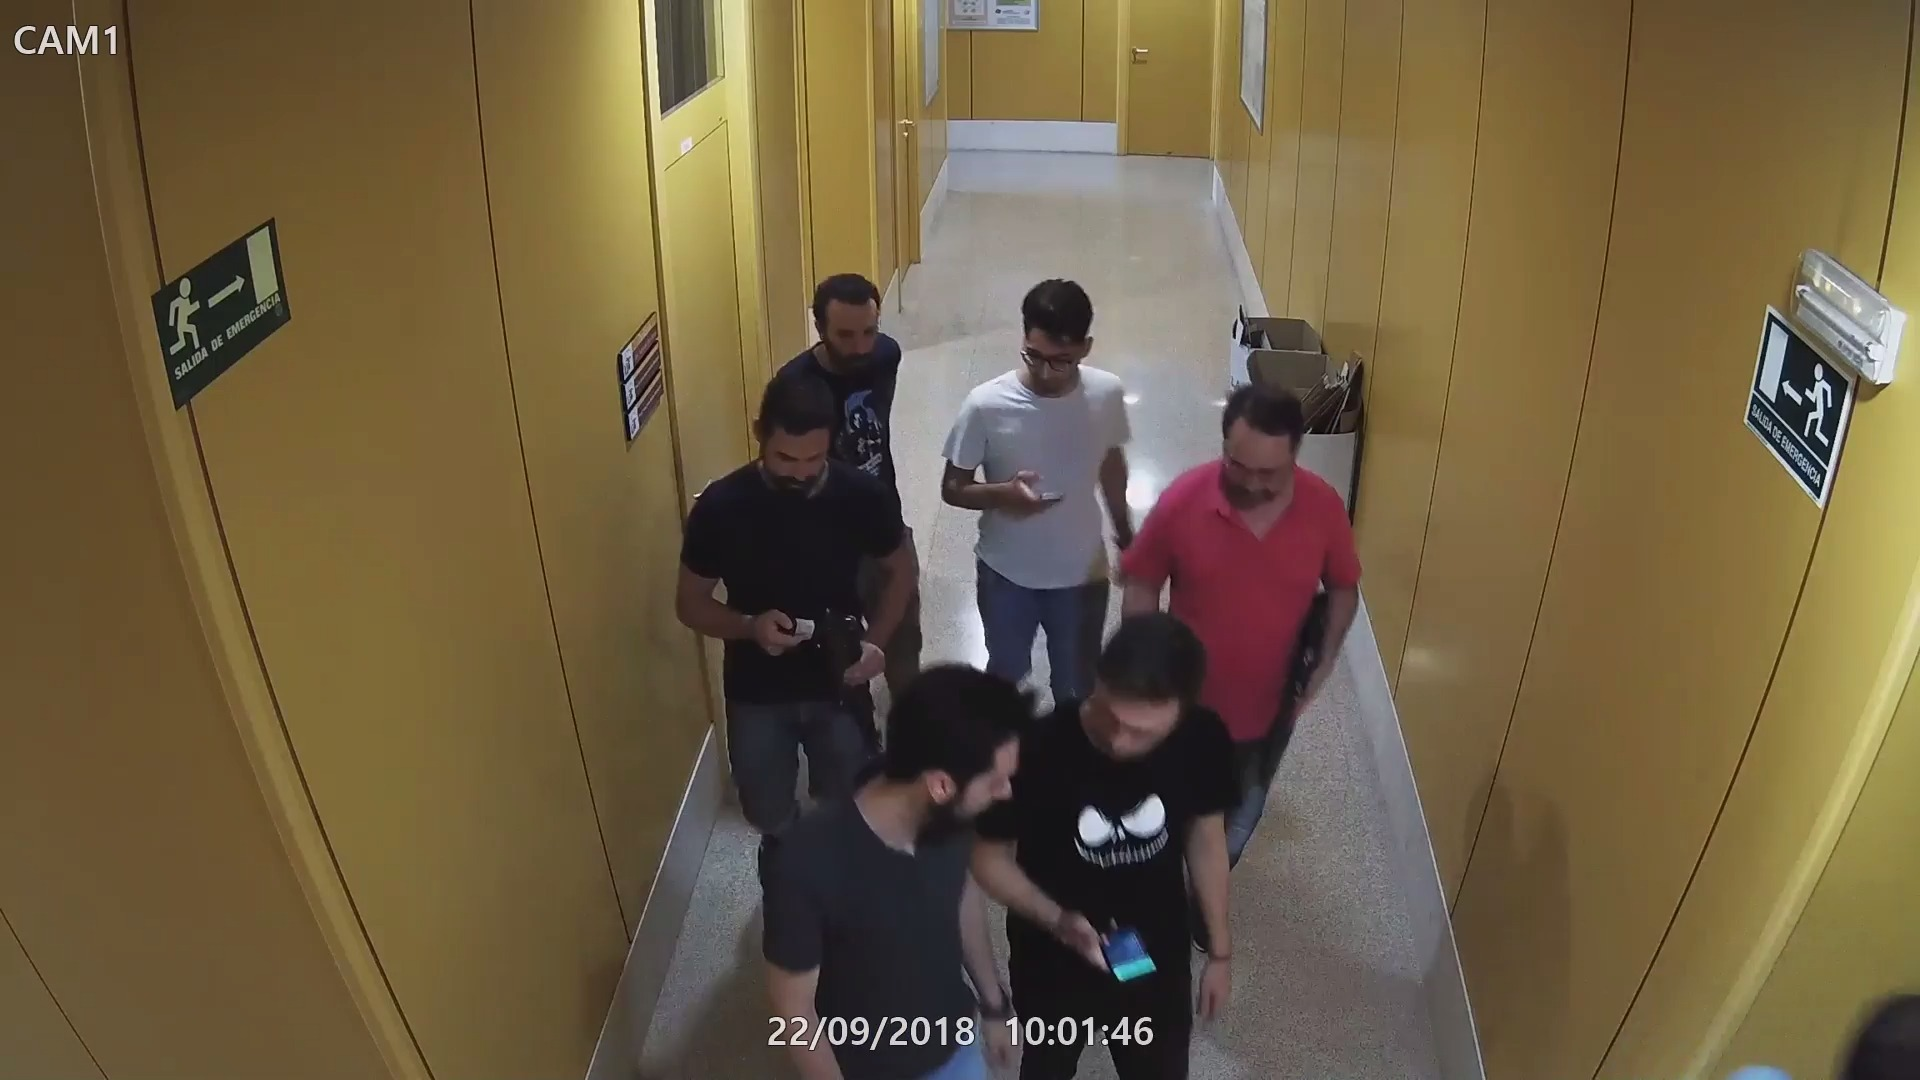Short_rifle: (1254, 584, 1342, 802), (769, 604, 887, 764)
